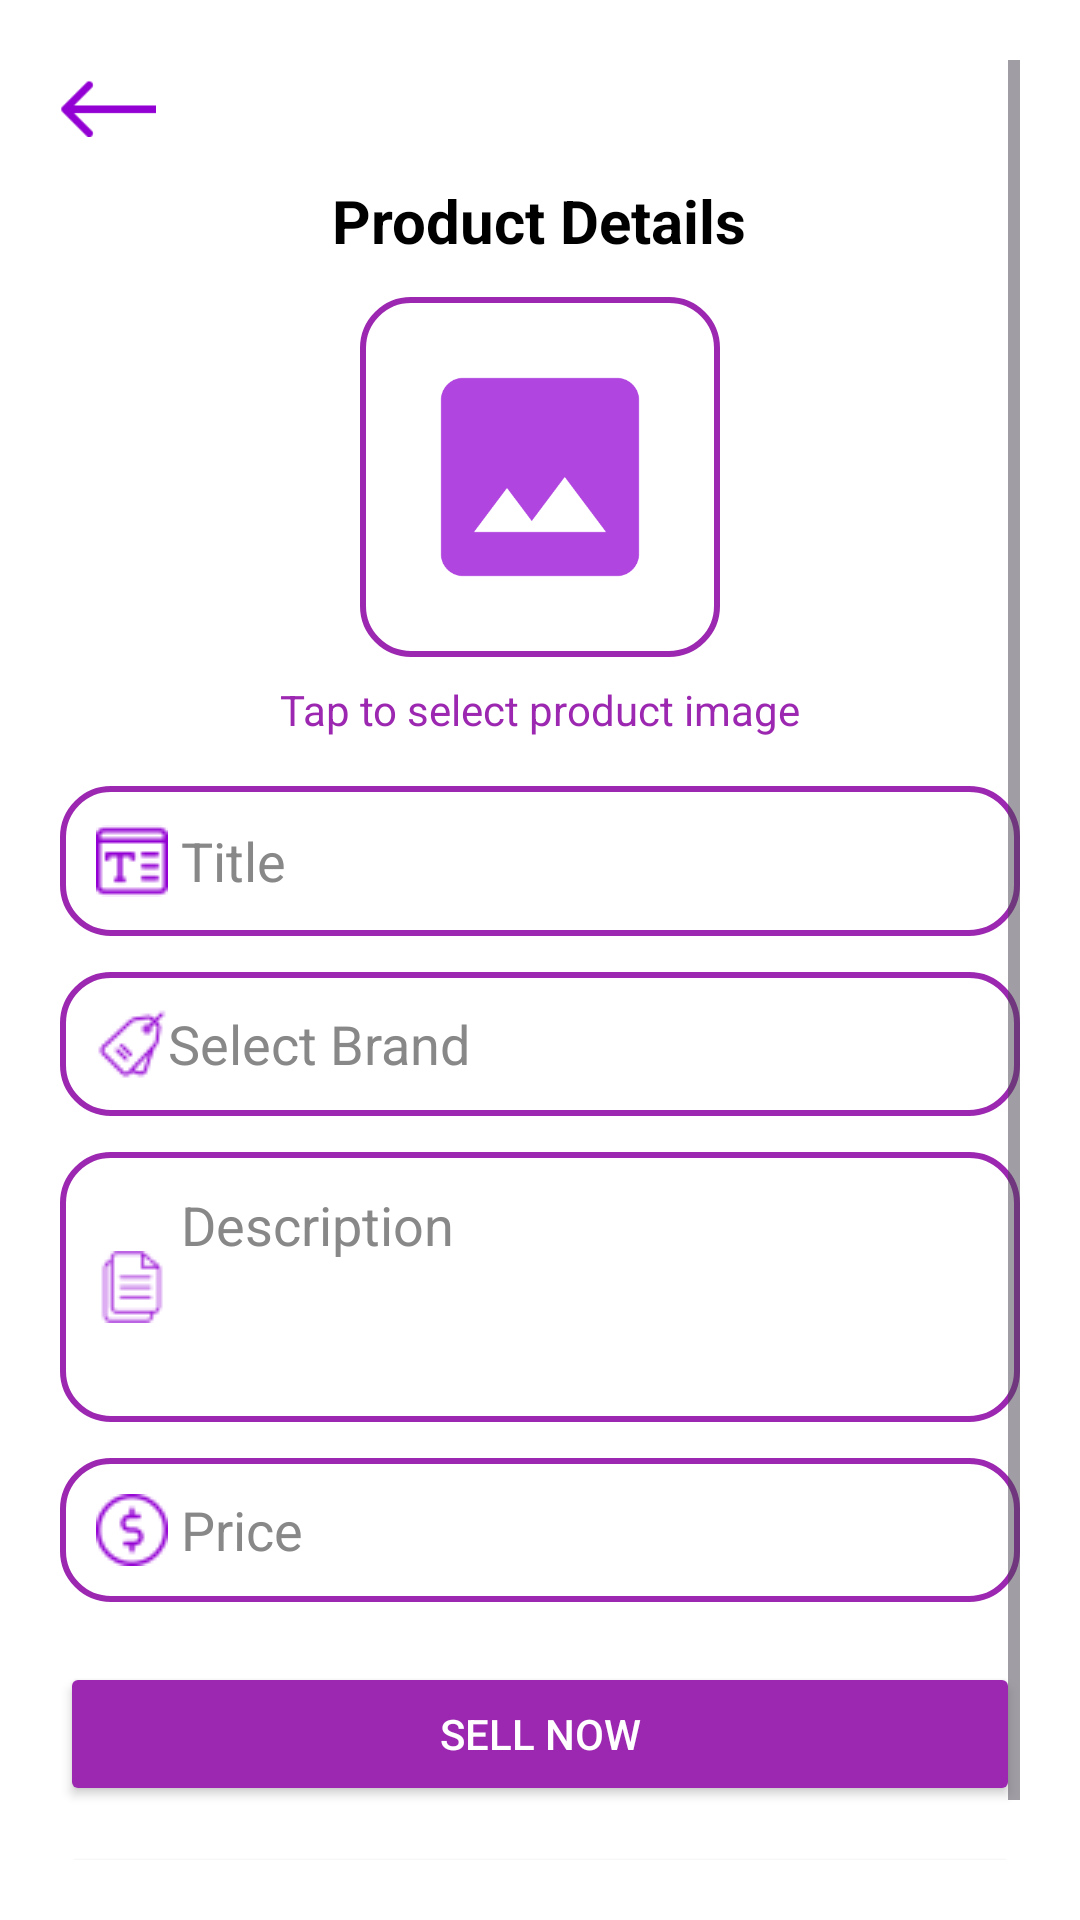

Screen size 1080×1920. Icon name, then its center in pixels as (x,y):
arrow back: (108,109)
